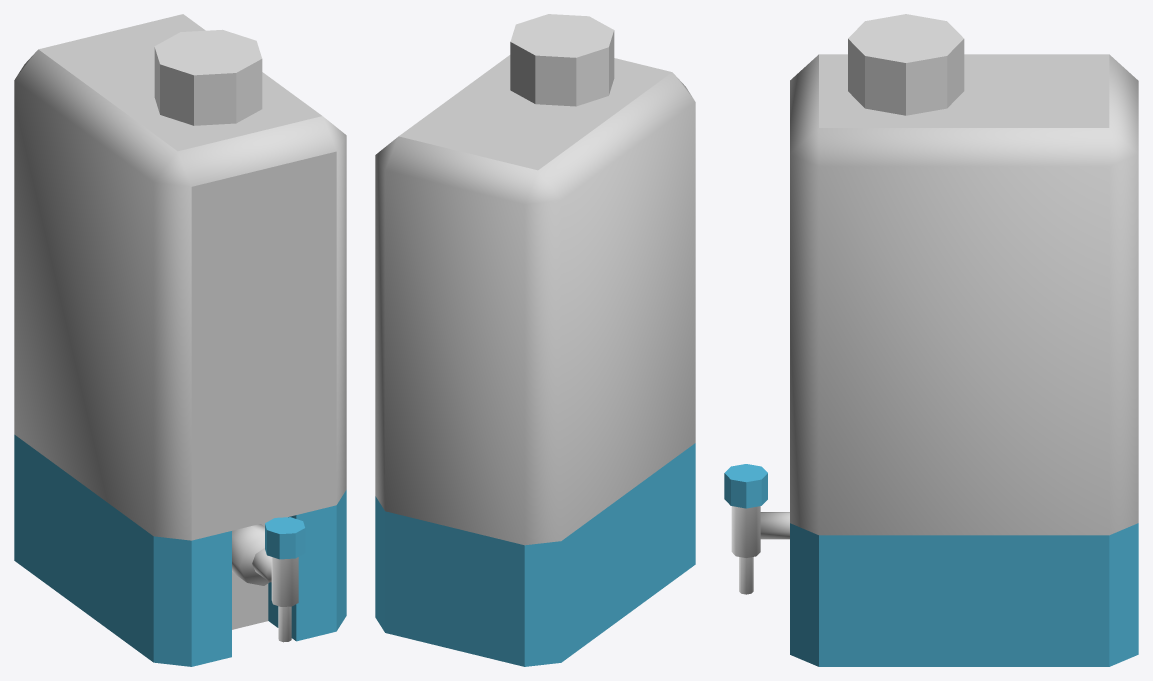
File: tank.fbx
3 views of the same model, side by side, from view 1: azimuth 30°, elevation 25°; view 2: azimuth 150°, elevation 25°; view 3: azimuth 270°, elevation 25° (orthographic). The views are drawn at different scales.
Visible parts, largest first — view 1: Cube, body, Cylinder; view 2: Cube, body; view 3: Cube, body, Cylinder.
Boxes of the visible parts, box(x1,y1,x2,y2) form: Cube: box(14, 14, 346, 666); body: box(154, 29, 262, 125); Cylinder: box(232, 517, 305, 642); Cube: box(375, 55, 695, 666); body: box(510, 14, 614, 106); Cube: box(790, 54, 1138, 666); body: box(848, 14, 964, 115); Cylinder: box(724, 464, 789, 594).
Size of the model in its own units: 16 by 44 by 28.5.
